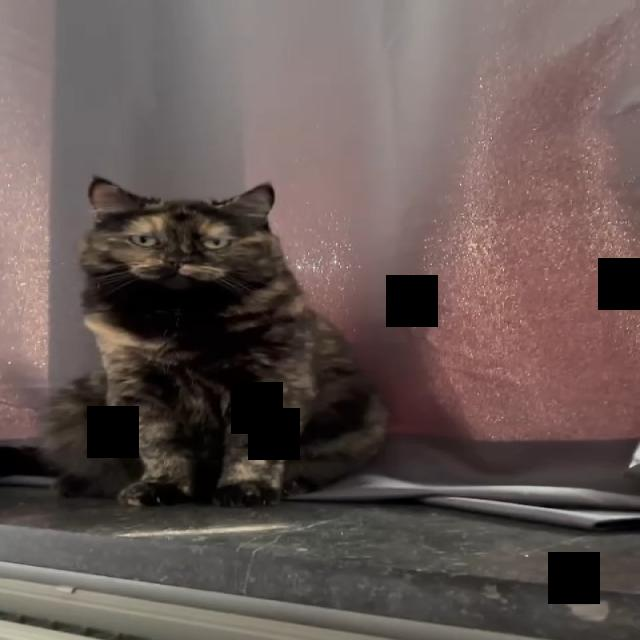authorized: (36, 174, 391, 508)
